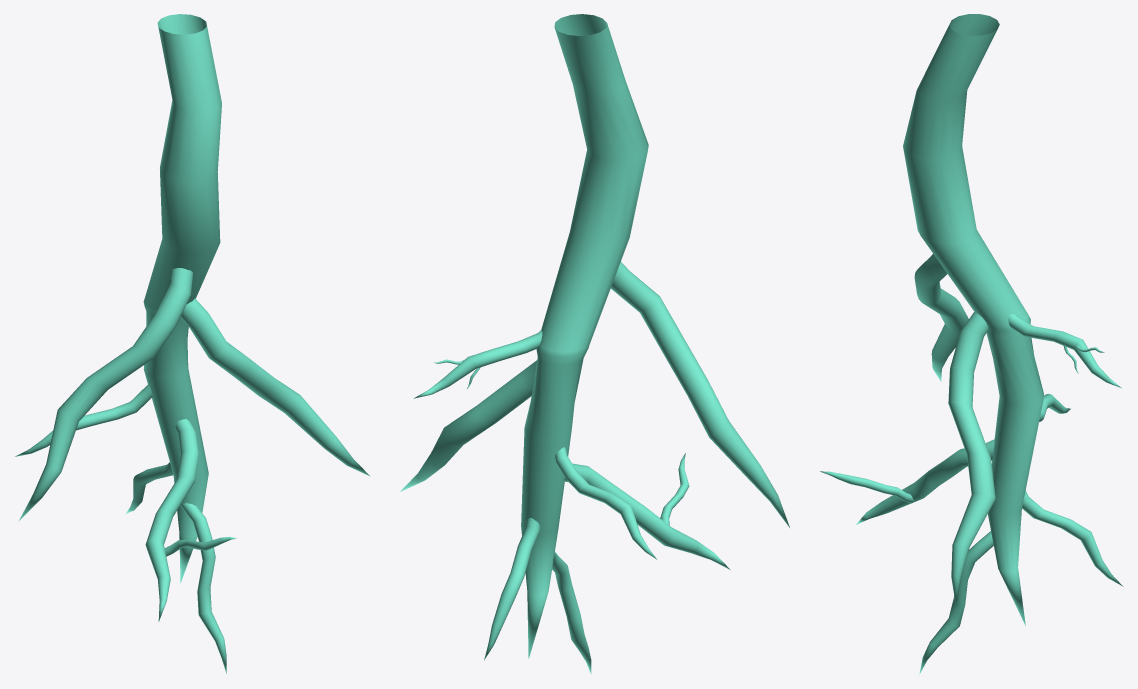
File: Raiz 2.fbx
The picture shows the model from 3 angles, left to right: view 1: azimuth 30°, elevation 25°; view 2: azimuth 150°, elevation 25°; view 3: azimuth 270°, elevation 25°; orthographic projection. The views are drawn at different scales.
Visible parts, largest first — view 1: Raiz; view 2: Raiz; view 3: Raiz.
Boxes of the visible parts, x1,y1,x2,y2 form: Raiz: [15, 14, 370, 673]; Raiz: [400, 14, 789, 673]; Raiz: [820, 14, 1123, 674].
Size of the model in its own units: 279 by 470 by 202.
